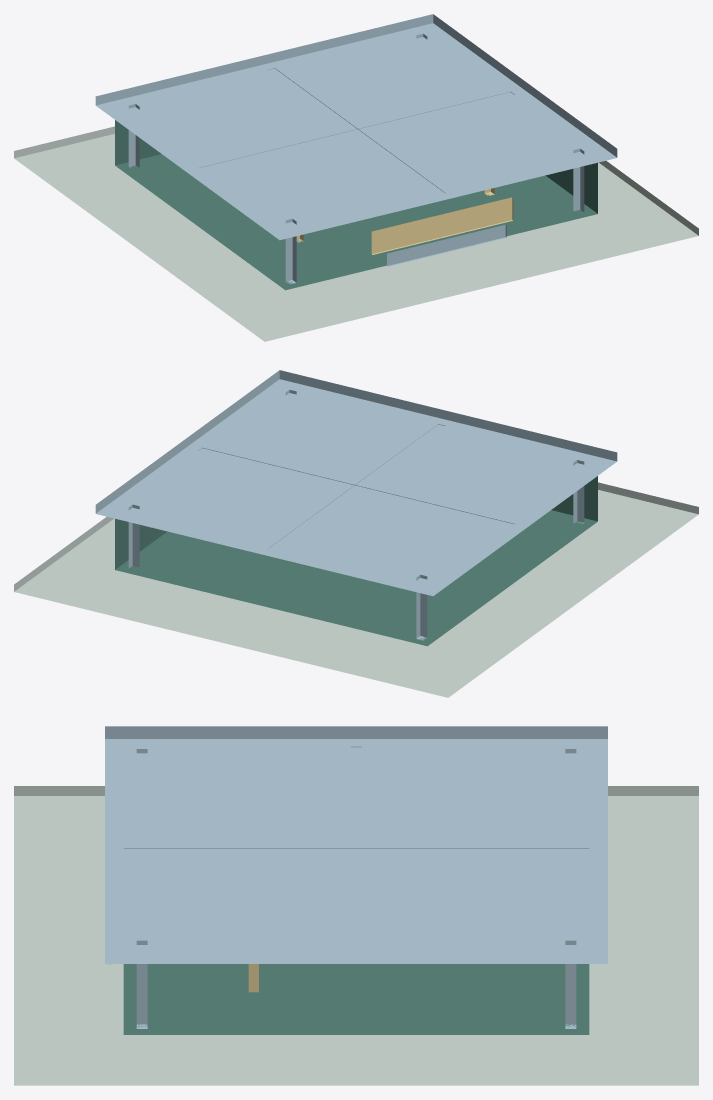
The model's file is station.glb.
The picture shows the model from 3 angles, top to bottom: view 1: azimuth 30°, elevation 25°; view 2: azimuth 150°, elevation 25°; view 3: azimuth 270°, elevation 25°; orthographic projection. The views are drawn at different scales.
Parts seen in each view (by area): view 1: Roof, Foundation, Walls, Details, Frame; view 2: Roof, Foundation, Walls, Frame; view 3: Roof, Foundation, Walls, Frame.
Part boxes in pixels (x1,y1,x2,y2): Roof: [95, 14, 617, 240]; Foundation: [14, 126, 698, 341]; Walls: [115, 120, 597, 290]; Details: [296, 188, 513, 266]; Frame: [128, 33, 584, 284]; Roof: [95, 370, 617, 596]; Foundation: [14, 482, 698, 697]; Walls: [115, 476, 597, 646]; Frame: [128, 389, 584, 640]; Roof: [105, 726, 607, 963]; Foundation: [14, 786, 698, 1085]; Walls: [123, 964, 589, 1034]; Frame: [123, 746, 589, 1028].
Bounding box in the file's own units: 40 × 6.56 × 40.
